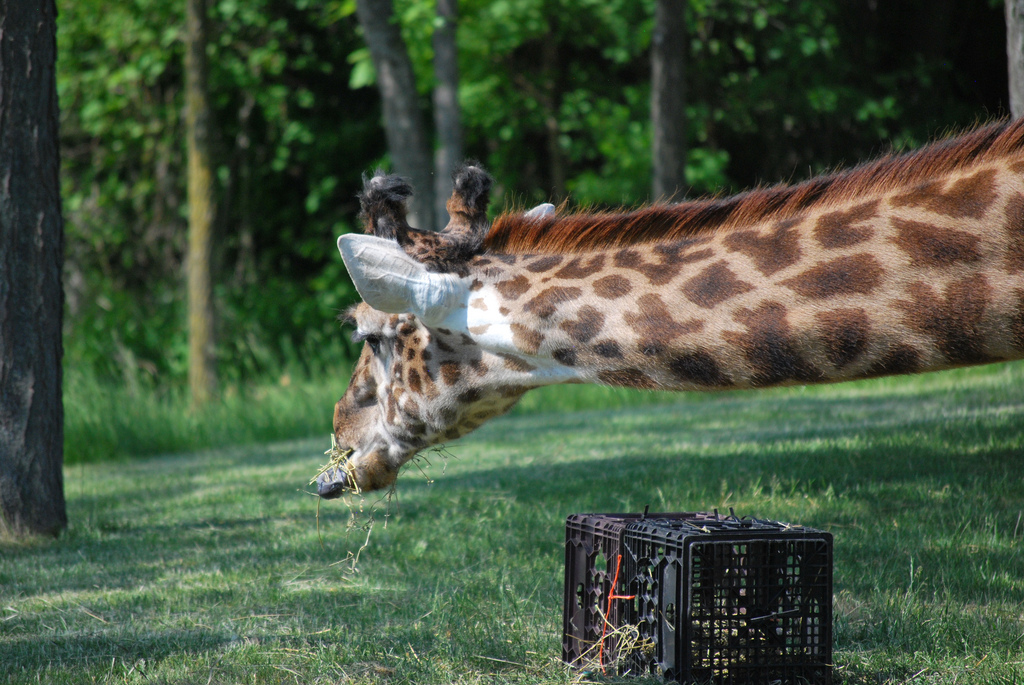giraffe: (264, 123, 1018, 521)
